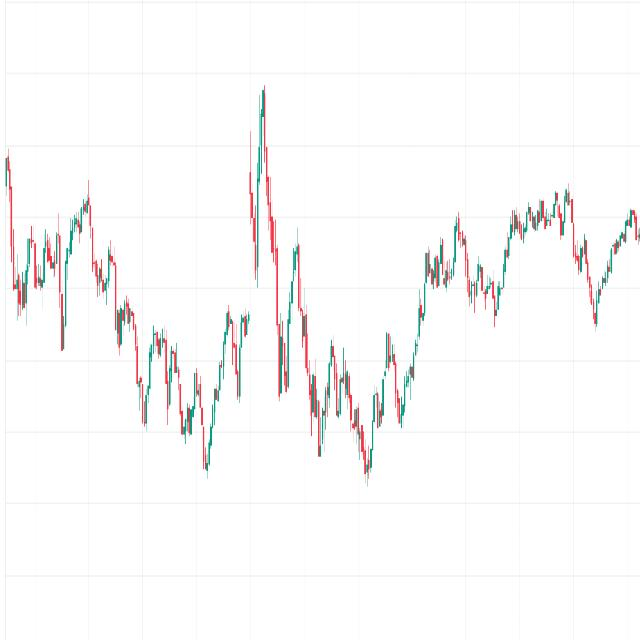Channel-down: (51, 156, 241, 564)
Rounding-Bottom: (268, 222, 432, 504)
Rounding-Top: (497, 174, 596, 302)
